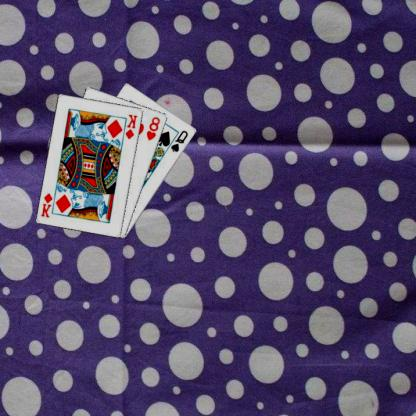8H: (146, 114, 163, 142)
KD: (40, 190, 56, 218), (125, 112, 140, 140)
QS: (170, 128, 191, 153)
